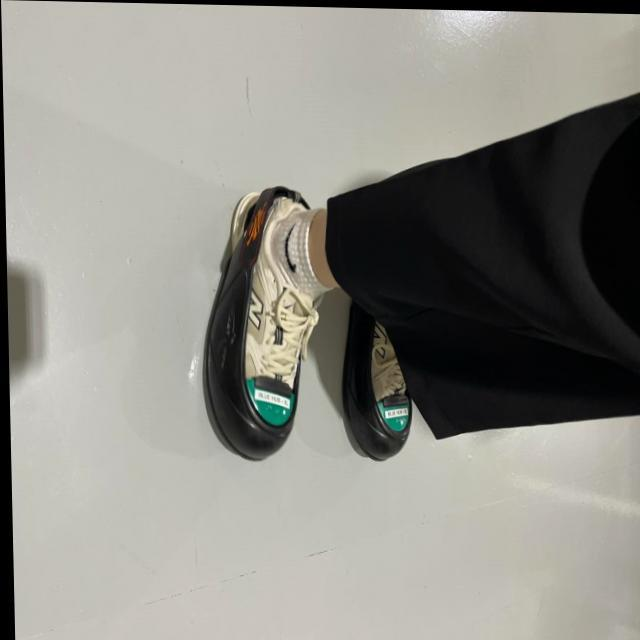shoes: (196, 178, 324, 460), (338, 302, 418, 469)
